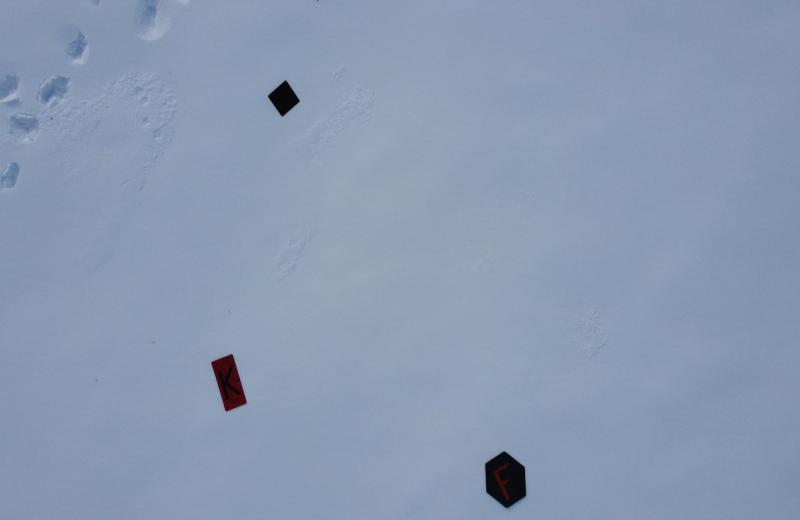Hexagon: (484, 451, 528, 508)
Rectangle: (210, 353, 249, 412)
Square: (268, 82, 301, 118)
